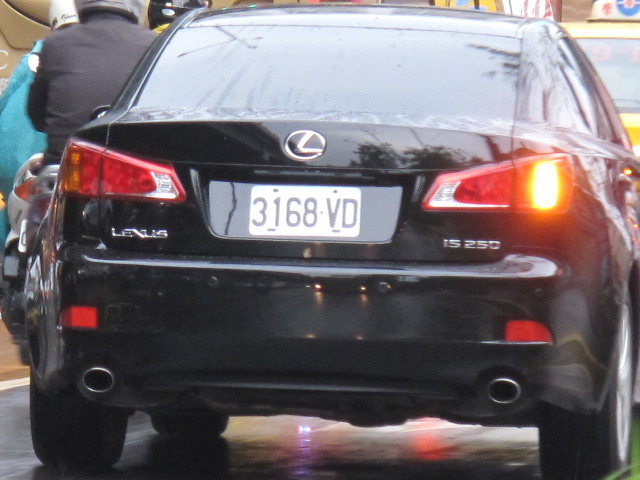plate: (248, 183, 365, 242)
